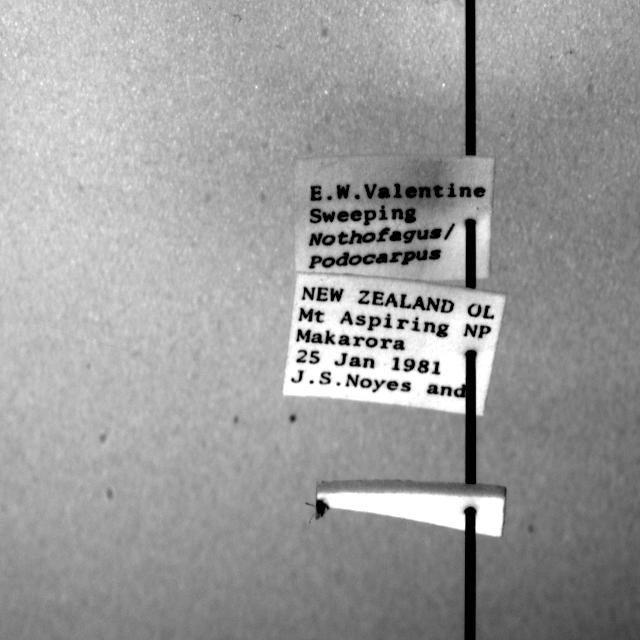typed_label: (282, 274, 505, 414), (295, 156, 494, 281)
